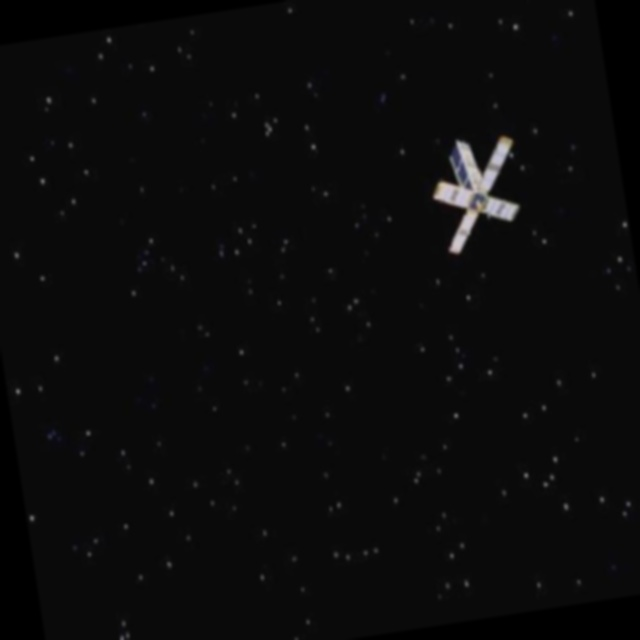satellite: (415, 116, 536, 262)
